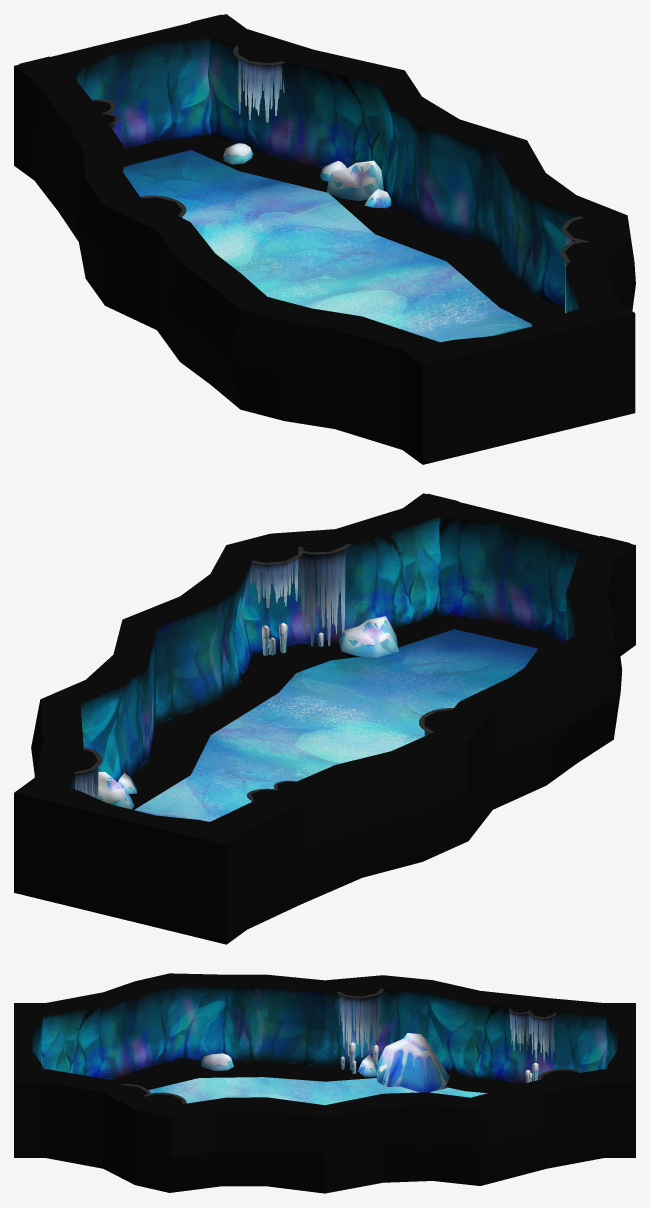
File: Dungeon_072_Road_002.fbx
3 renders of one model, top to bottom at view 1: azimuth 30°, elevation 25°; view 2: azimuth 150°, elevation 25°; view 3: azimuth 270°, elevation 25°, orthographic. The views are drawn at different scales.
Parts seen in each view (by area): view 1: Dun_072_Road_002_wall, Dun_072_Road_002_ground, Dun_072_Door_002 (×2), Dan_072_Road_002_shadow, Dun_072_OB_Icicle, Dun_072_OB_Stone02, Dun_072_OB_Stone01, Dun_072_Door_002_shadow; view 2: Dun_072_Road_002_wall, Dun_072_Door_002 (×2), Dun_072_Road_002_ground, Dan_072_Road_002_shadow, Dun_072_OB_Icicle, Dun_072_OB_Stone02, Dun_072_Door_002_shadow, Dun_072_OB_Ice_crystals01; view 3: Dun_072_Road_002_wall, Dun_072_Road_002_ground, Dan_072_Road_002_shadow, Dun_072_OB_Icicle, Dun_072_Door_002 (×2), Dun_072_OB_Stone02, Dun_072_OB_Stone01, Dun_072_OB_Ice_crystals01.
Boxes of the visible parts, bbox=[...] form: Dun_072_Road_002_wall: bbox=[14, 14, 635, 464]; Dun_072_Road_002_ground: bbox=[123, 150, 531, 342]; Dun_072_Door_002 (×2): bbox=[19, 14, 630, 456]; Dan_072_Road_002_shadow: bbox=[171, 135, 564, 326]; Dun_072_OB_Icicle: bbox=[92, 46, 588, 313]; Dun_072_OB_Stone02: bbox=[326, 160, 383, 200]; Dun_072_OB_Stone01: bbox=[223, 143, 391, 208]; Dun_072_Door_002_shadow: bbox=[123, 139, 190, 166]; Dun_072_Road_002_wall: bbox=[14, 493, 635, 944]; Dun_072_Door_002 (×2): bbox=[19, 493, 630, 935]; Dun_072_Road_002_ground: bbox=[134, 629, 538, 821]; Dan_072_Road_002_shadow: bbox=[128, 614, 563, 809]; Dun_072_OB_Icicle: bbox=[74, 544, 453, 801]; Dun_072_OB_Stone02: bbox=[85, 616, 398, 809]; Dun_072_Door_002_shadow: bbox=[454, 618, 550, 648]; Dun_072_OB_Ice_crystals01: bbox=[262, 622, 323, 655]; Dun_072_Road_002_wall: bbox=[14, 973, 635, 1193]; Dun_072_Road_002_ground: bbox=[148, 1077, 487, 1104]; Dan_072_Road_002_shadow: bbox=[110, 1060, 524, 1092]; Dun_072_OB_Icicle: bbox=[120, 988, 581, 1104]; Dun_072_Door_002 (×2): bbox=[14, 1004, 635, 1079]; Dun_072_OB_Stone02: bbox=[376, 1033, 449, 1092]; Dun_072_OB_Stone01: bbox=[201, 1053, 377, 1076]; Dun_072_OB_Ice_crystals01: bbox=[340, 1042, 538, 1082].
Size of what is drawn, in the model's own units: 8.54 by 2.1 by 15.
